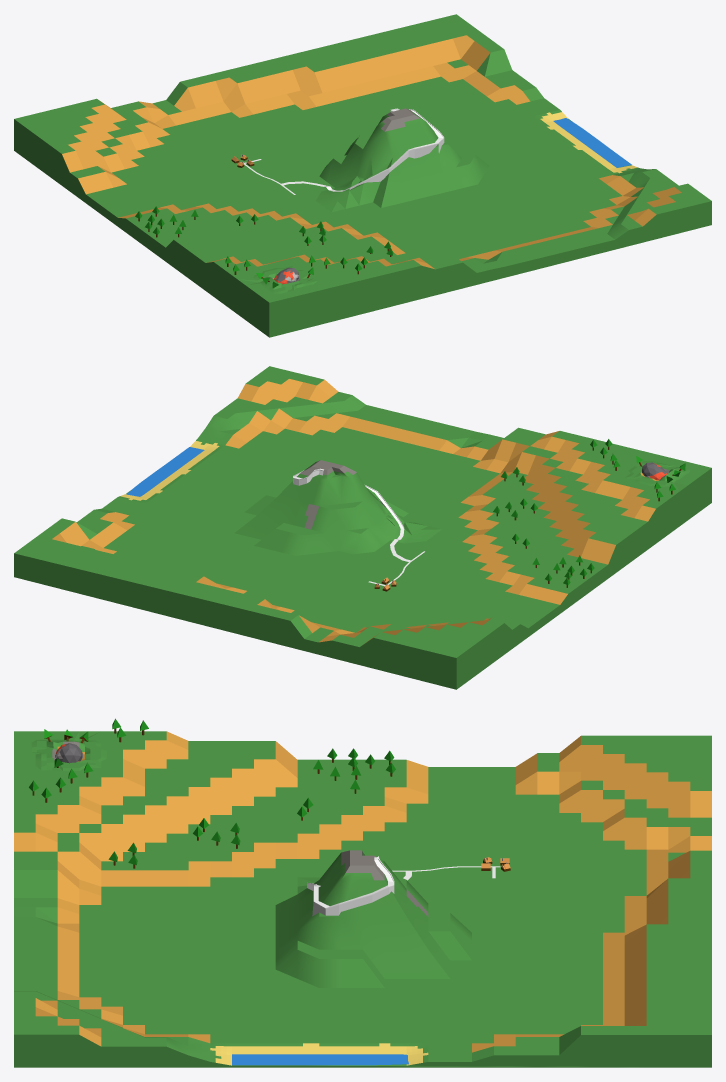
The model's file is land.glb.
3 renders of one model, top to bottom at view 1: azimuth 30°, elevation 25°; view 2: azimuth 150°, elevation 25°; view 3: azimuth 270°, elevation 25°, orthographic. The views are drawn at different scales.
Visible parts, largest first — view 1: Cube, Plano; view 2: Cube, Plano; view 3: Cube, Plano.
Boxes of the visible parts, x1,y1,x2,y2 form: Cube: (14, 14, 711, 337); Plano: (241, 108, 444, 194); Cube: (14, 366, 711, 689); Plano: (293, 468, 424, 586); Cube: (14, 731, 711, 1067); Plano: (307, 856, 500, 916).
Size of the model in its own units: 5.96 by 0.8737 by 5.96.
